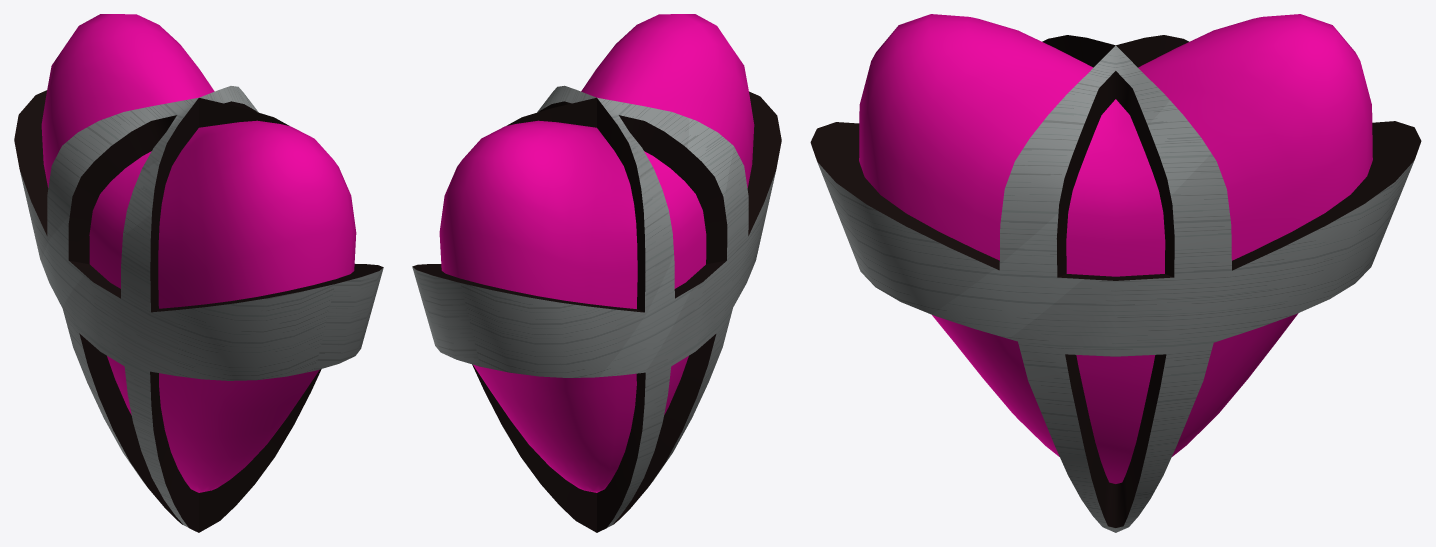
The model's file is Heart Piece.fbx.
3 renders of one model, left to right at view 1: azimuth 30°, elevation 25°; view 2: azimuth 150°, elevation 25°; view 3: azimuth 270°, elevation 25°, orthographic. The views are drawn at different scales.
Visible parts, largest first — view 1: Sphere; view 2: Sphere; view 3: Sphere.
Part boxes in pixels (x1=…): Sphere: x1=14, y1=14, x2=383, y2=532; Sphere: x1=412, y1=14, x2=781, y2=532; Sphere: x1=810, y1=14, x2=1421, y2=532.
Size of the model in its own units: 97.57 by 202 by 218.
